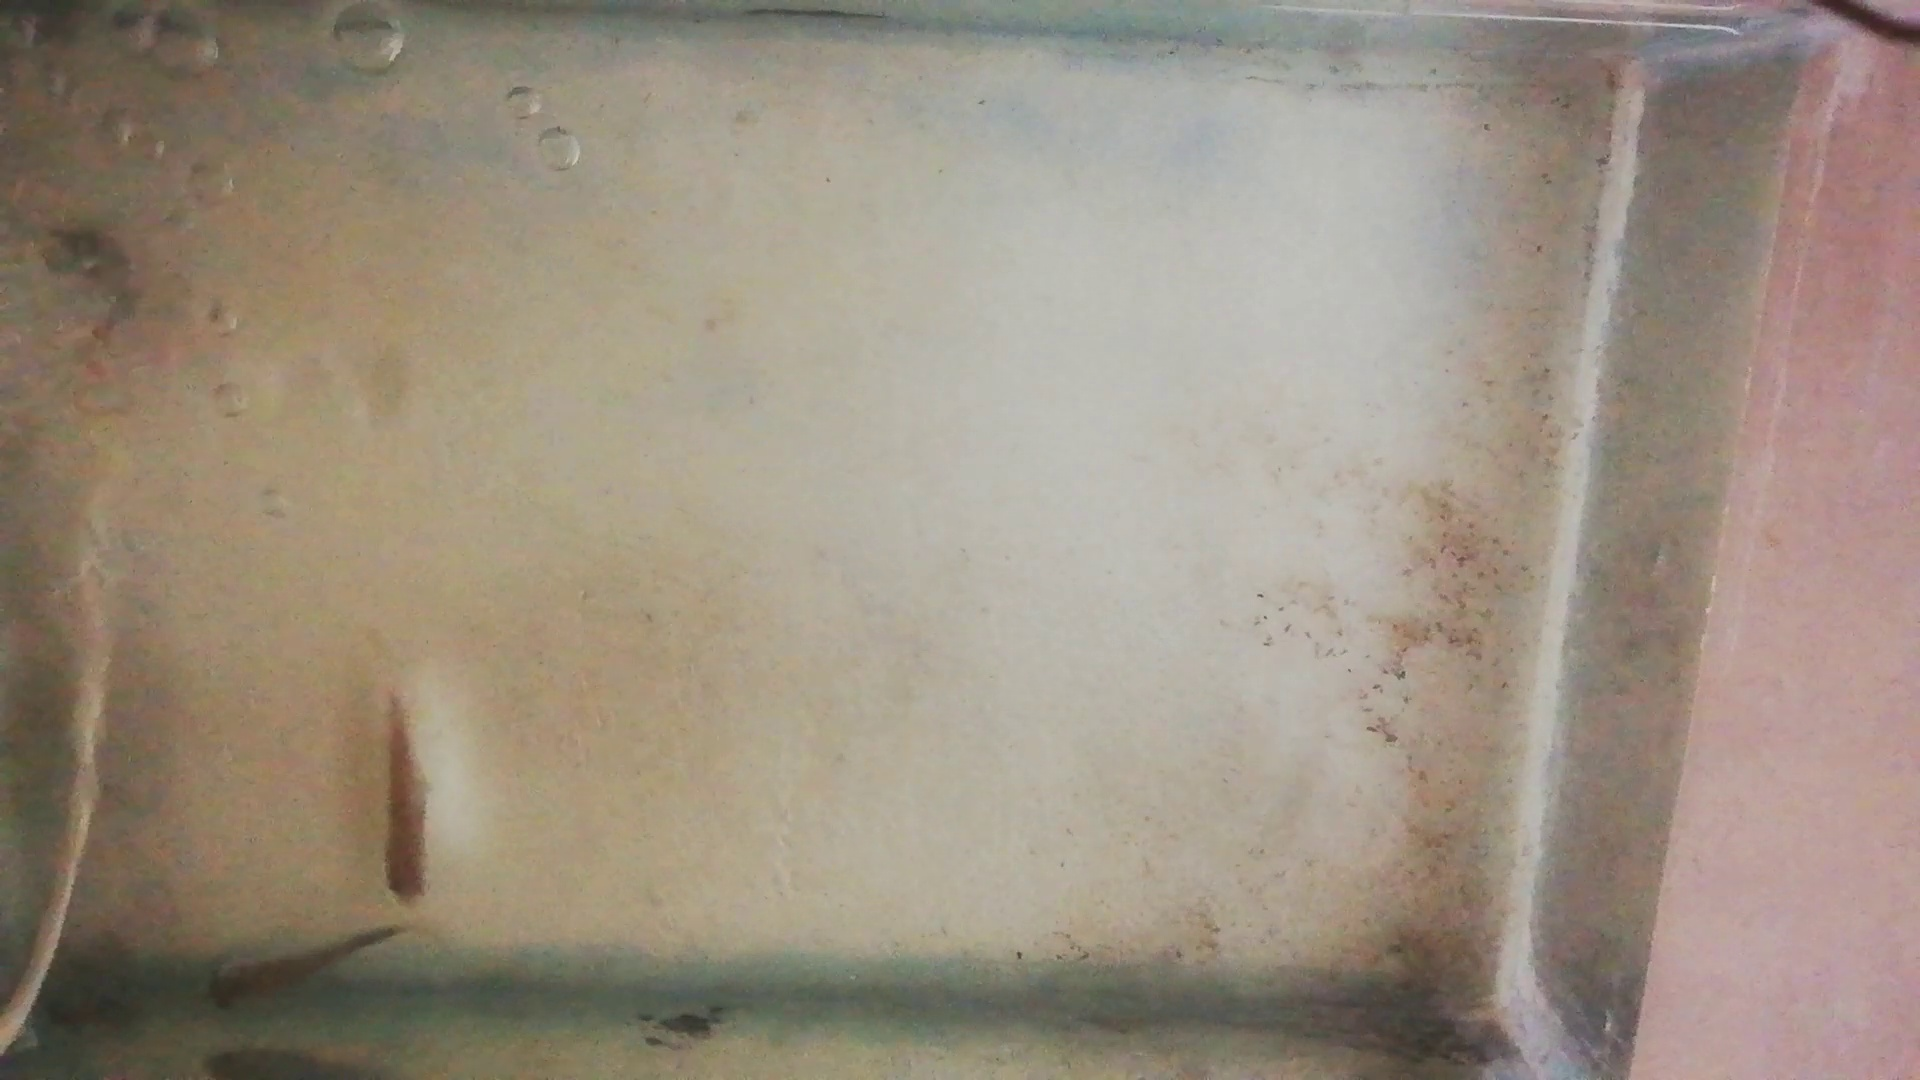fish: (210, 928, 396, 1007), (384, 694, 429, 907)
